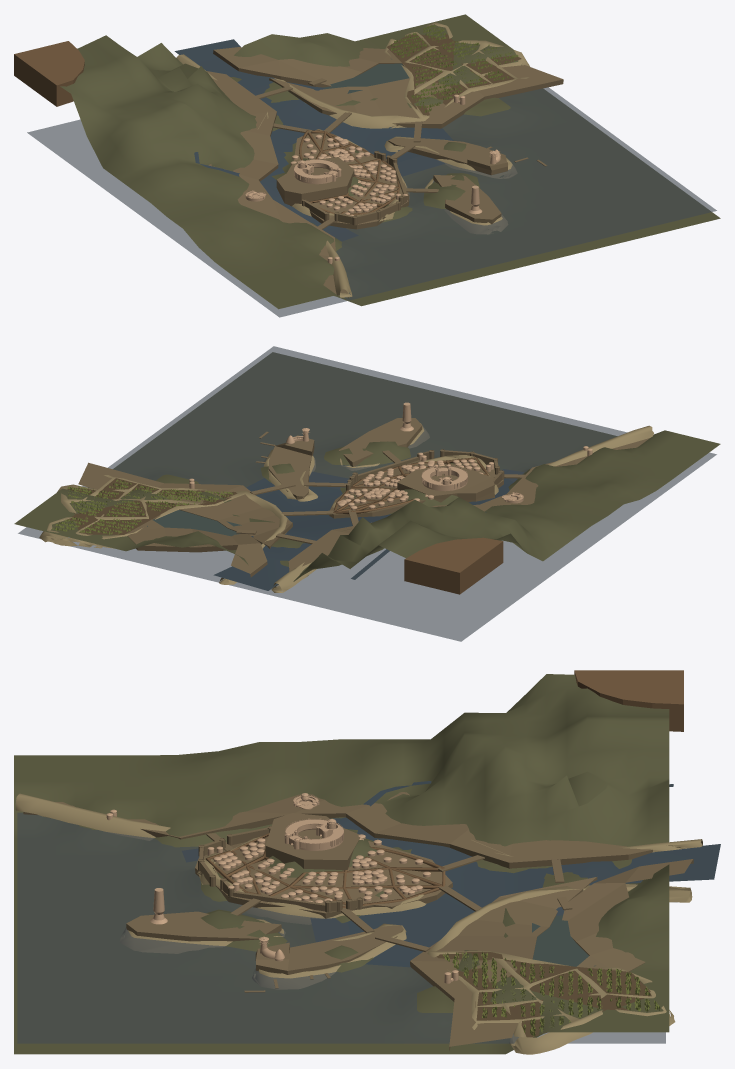
Rendered from city_view.glb.
The picture shows the model from 3 angles, top to bottom: view 1: azimuth 30°, elevation 25°; view 2: azimuth 150°, elevation 25°; view 3: azimuth 270°, elevation 25°; orthographic projection. The views are drawn at different scales.
Parts seen in each view (by area): view 1: terrain, ocean, city_foundation, roads_applied-GN, river, houses_applied-GN, mine, wall.011, bridges, lake, castle; view 2: terrain, ocean, city_foundation, roads_applied-GN, river, mine, houses_applied-GN, bridges, lake, wall.011, castle; view 3: terrain, ocean, city_foundation, roads_applied-GN, river, houses_applied-GN, mine, wall.011, bridges, lake, castle.
Boxes of the visible parts, bbox=[...] form: terrain: bbox=[60, 14, 720, 309]; ocean: bbox=[27, 87, 716, 317]; city_foundation: bbox=[207, 47, 563, 297]; roads_applied-GN: bbox=[176, 22, 529, 297]; river: bbox=[174, 39, 453, 240]; houses_applied-GN: bbox=[290, 130, 400, 215]; mine: bbox=[14, 41, 84, 106]; wall.011: bbox=[302, 151, 409, 225]; bridges: bbox=[256, 78, 438, 229]; lake: bbox=[323, 59, 409, 93]; castle: bbox=[294, 159, 341, 184]; terrain: bbox=[14, 352, 720, 581]; ocean: bbox=[18, 346, 716, 641]; city_foundation: bbox=[78, 418, 649, 577]; roads_applied-GN: bbox=[39, 423, 653, 592]; river: bbox=[213, 469, 523, 590]; mine: bbox=[404, 537, 503, 594]; houses_applied-GN: bbox=[333, 457, 489, 514]; bridges: bbox=[236, 450, 524, 544]; lake: bbox=[147, 510, 241, 536]; wall.011: bbox=[346, 449, 504, 490]; castle: bbox=[421, 464, 467, 491]; terrain: bbox=[14, 674, 669, 1054]; ocean: bbox=[17, 812, 665, 1043]; city_foundation: bbox=[23, 792, 693, 1050]; roads_applied-GN: bbox=[15, 793, 702, 1054]; river: bbox=[182, 781, 720, 967]; houses_applied-GN: bbox=[205, 833, 445, 909]; mine: bbox=[574, 670, 683, 731]; wall.011: bbox=[198, 826, 362, 912]; bridges: bbox=[206, 833, 572, 951]; lake: bbox=[532, 915, 595, 966]; castle: bbox=[284, 818, 343, 850].
Size of the model in its own units: 22.28 by 4.05 by 23.2.
